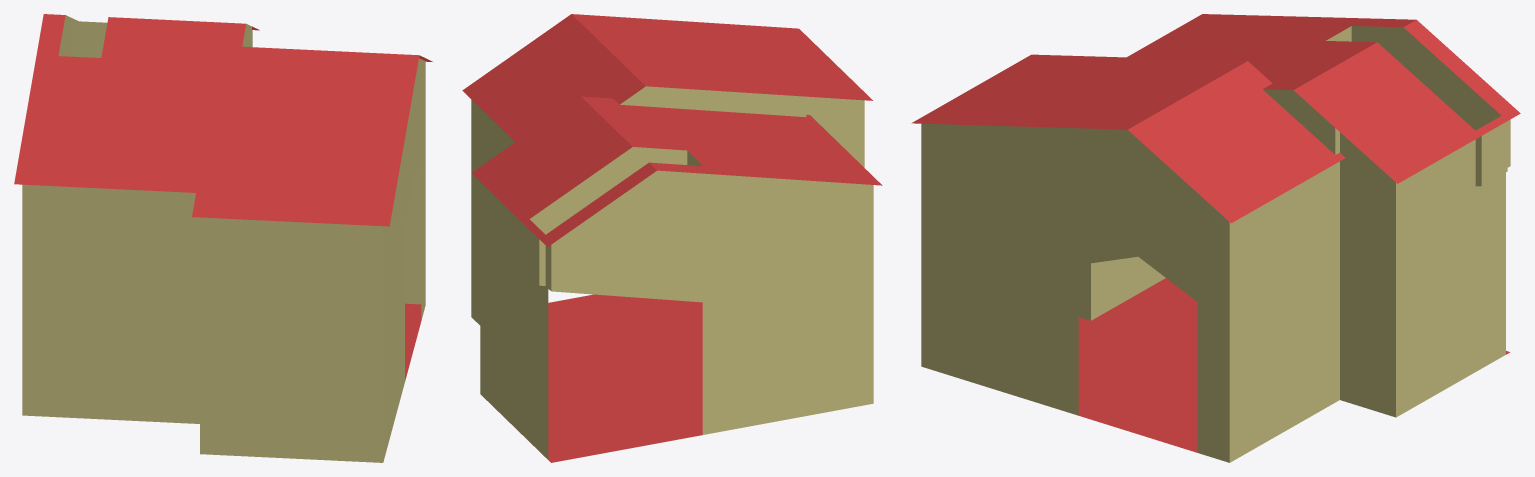
The picture shows the model from 3 angles, left to right: view 1: azimuth 30°, elevation 25°; view 2: azimuth 150°, elevation 25°; view 3: azimuth 270°, elevation 25°; orthographic projection. The views are drawn at different scales.
Bounding box in the file's own units: 17.24 × 20.63 × 11.39.
